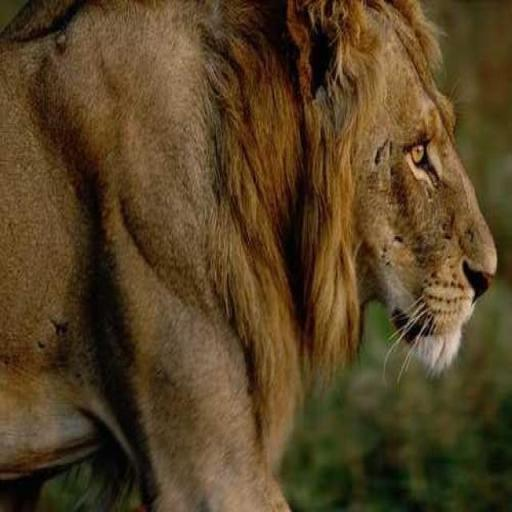Lion: (0, 0, 498, 510)
